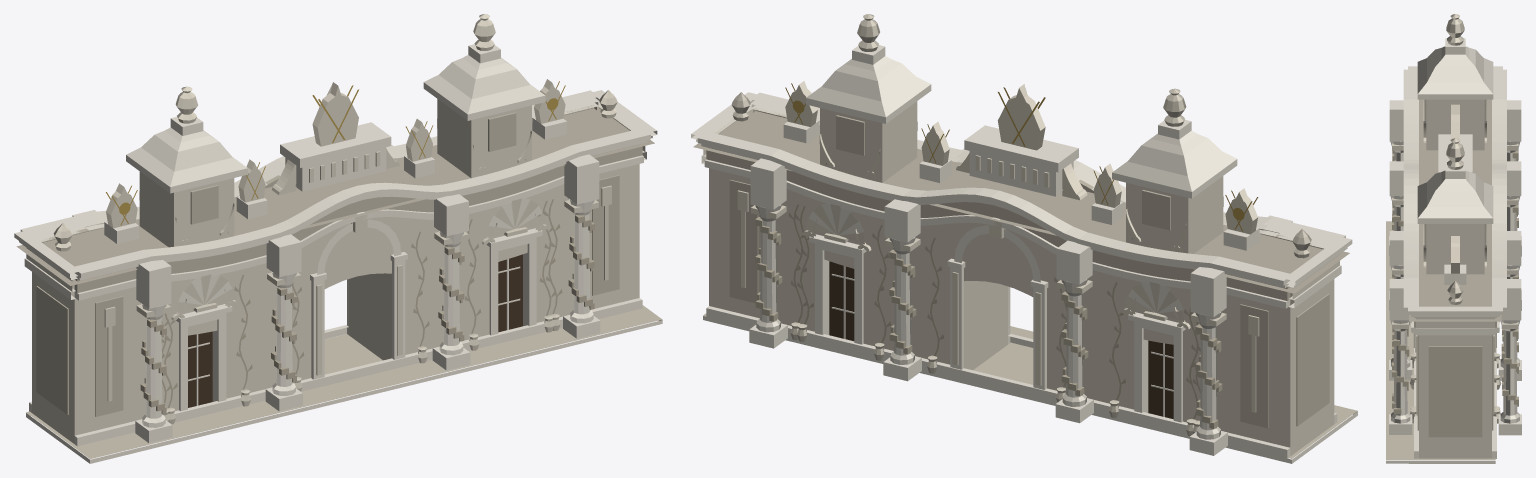
The picture shows the model from 3 angles, left to right: view 1: azimuth 30°, elevation 25°; view 2: azimuth 150°, elevation 25°; view 3: azimuth 270°, elevation 25°; orthographic projection. The views are drawn at different scales.
Visible parts, largest first — view 1: XY13 螺蛳牌楼 Luosi Pailou; view 2: XY13 螺蛳牌楼 Luosi Pailou; view 3: XY13 螺蛳牌楼 Luosi Pailou.
Boxes of the visible parts, <box> form: XY13 螺蛳牌楼 Luosi Pailou: <box>14,14,662,463</box>; XY13 螺蛳牌楼 Luosi Pailou: <box>691,14,1357,463</box>; XY13 螺蛳牌楼 Luosi Pailou: <box>1386,14,1521,463</box>.
Bounding box in the file's own units: 23.8 × 12.17 × 5.58.
